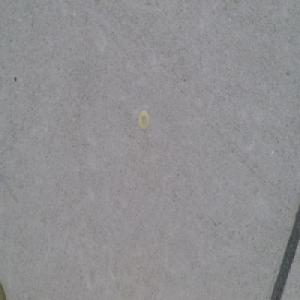Washer: (138, 109, 150, 132)
